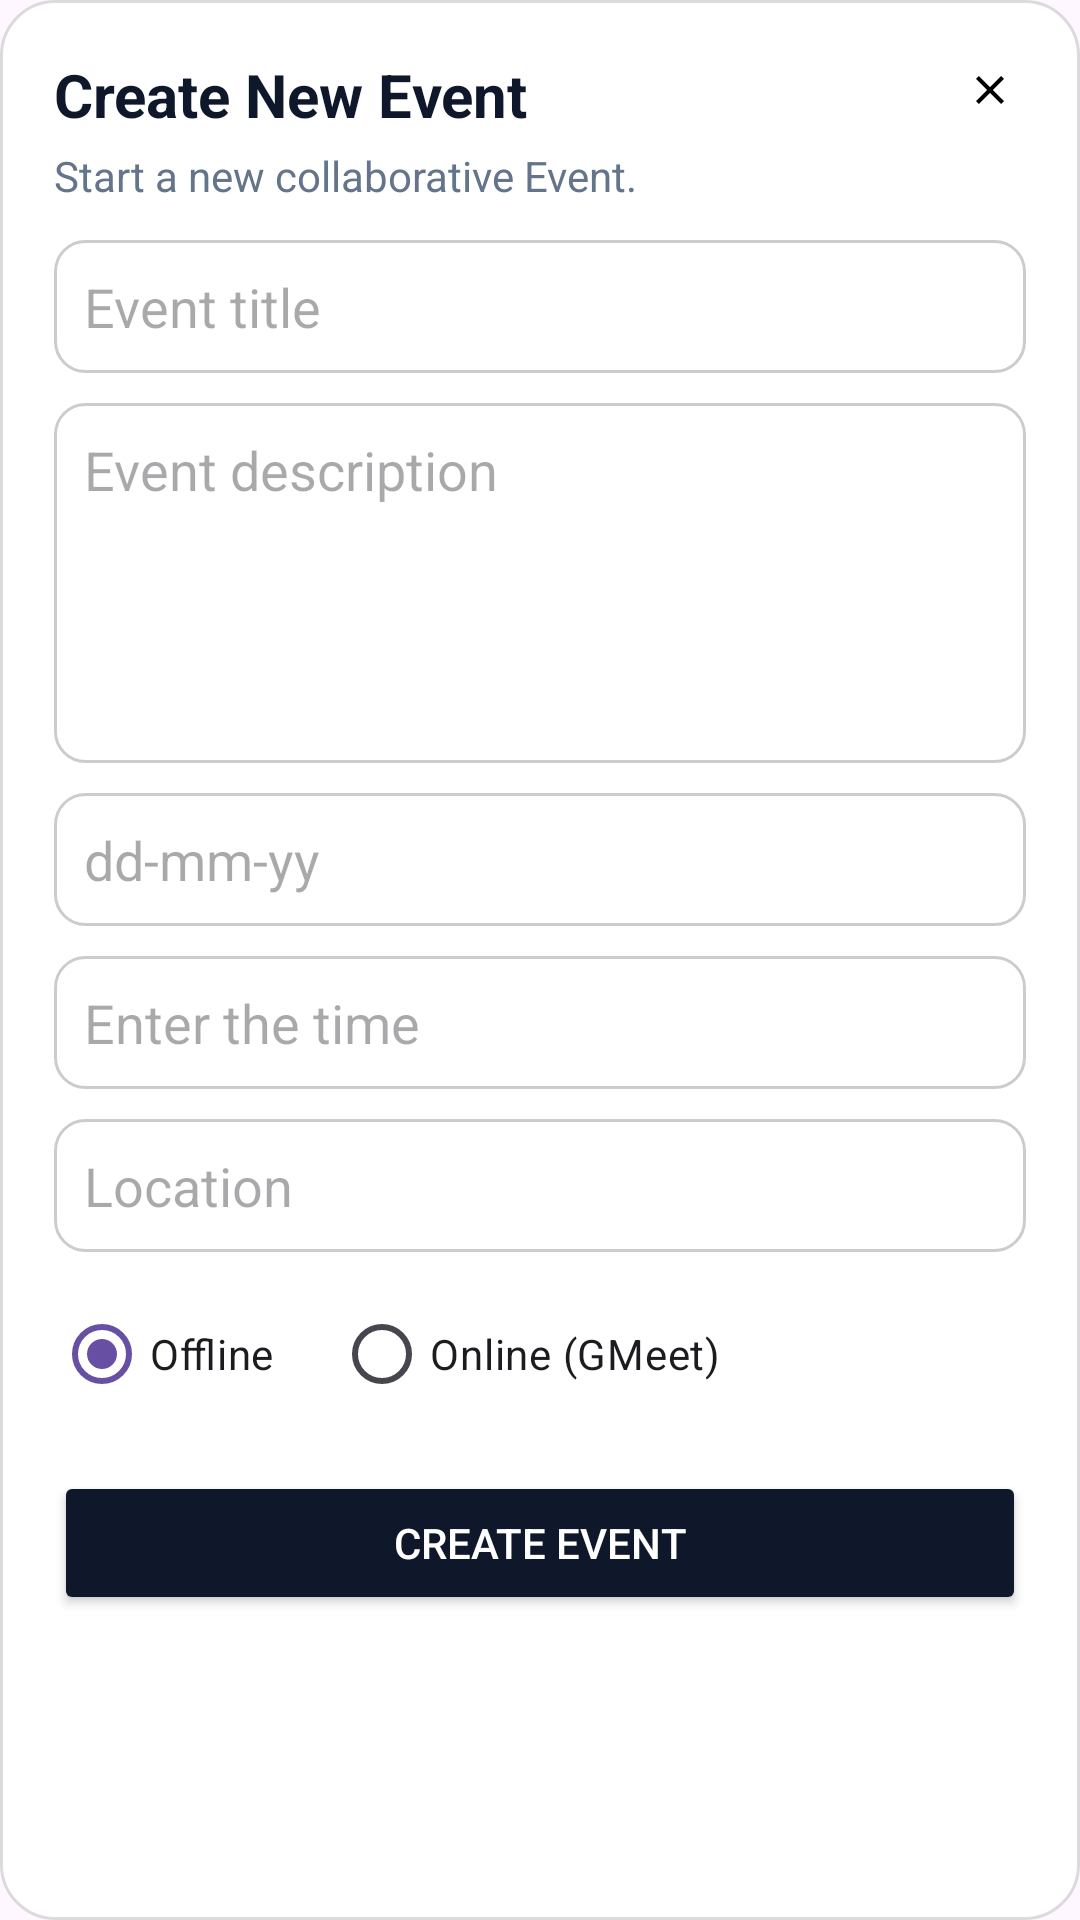

Where to tap for icons on this 1080w x 1920h app screen, as (x,y):
close: (990,90)
